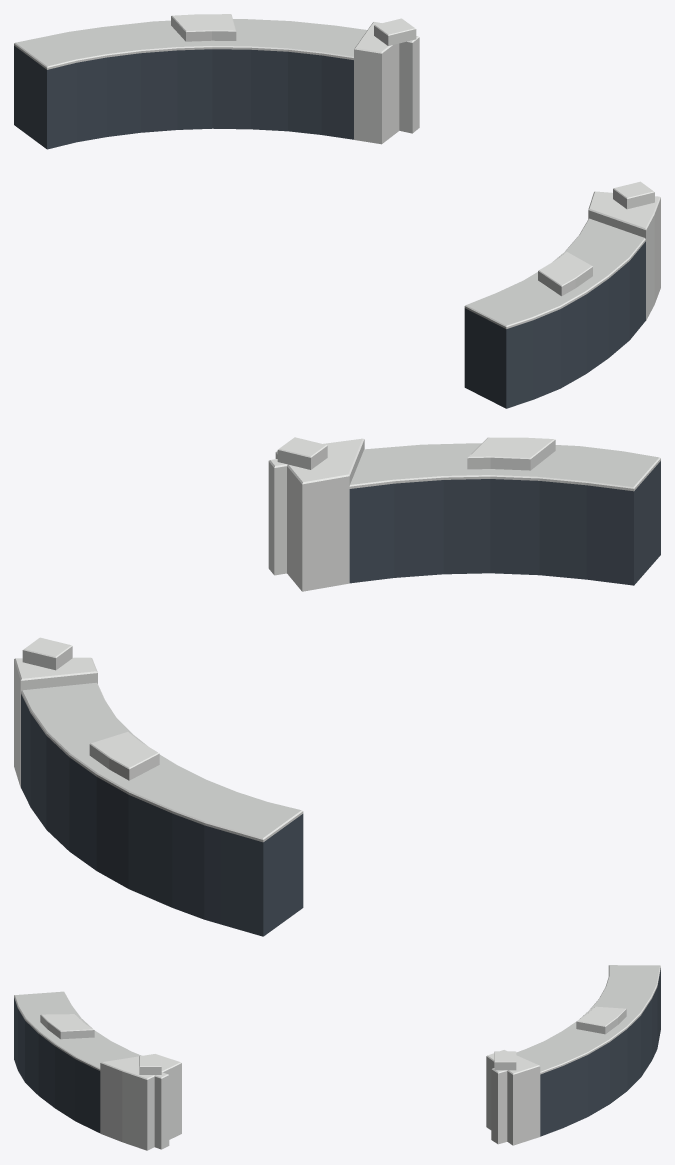
The model's file is nyc-twa-hotel.glb.
3 renders of one model, top to bottom at view 1: azimuth 30°, elevation 25°; view 2: azimuth 150°, elevation 25°; view 3: azimuth 270°, elevation 25°, orthographic. The views are drawn at different scales.
Visible parts, largest first — view 1: TWA Hotel; view 2: TWA Hotel; view 3: TWA Hotel.
Part boxes in pixels (x1,y1,x2,y2): TWA Hotel: [14, 14, 660, 408]; TWA Hotel: [14, 437, 660, 936]; TWA Hotel: [14, 965, 660, 1150].
Bounding box in the file's own units: 90.91 × 28 × 205.
